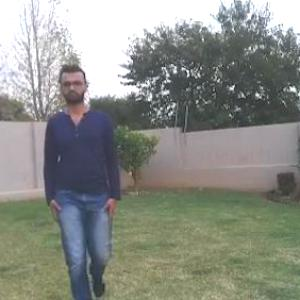follow: (43, 60, 118, 299)
